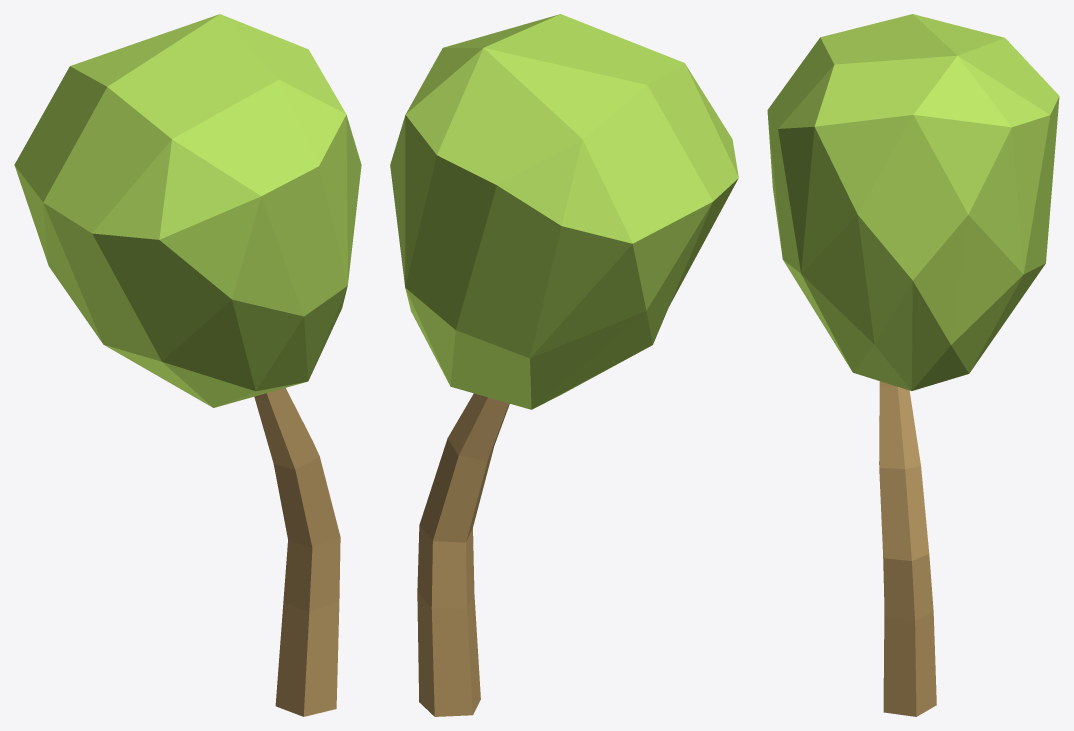
File: Simple_Tree_m_07_LOD.fbx
3 renders of one model, left to right at view 1: azimuth 30°, elevation 25°; view 2: azimuth 150°, elevation 25°; view 3: azimuth 270°, elevation 25°, orthographic. The views are drawn at different scales.
Parts seen in each view (by area): view 1: Simple_Tree_m_07_LOD0; view 2: Simple_Tree_m_07_LOD0; view 3: Simple_Tree_m_07_LOD0.
Boxes of the visible parts, x1,y1,x2,y2 form: Simple_Tree_m_07_LOD0: (14, 14, 361, 716); Simple_Tree_m_07_LOD0: (390, 14, 738, 716); Simple_Tree_m_07_LOD0: (767, 14, 1059, 716).
Size of what is drawn, in the model's own units: 325 by 701 by 298.
